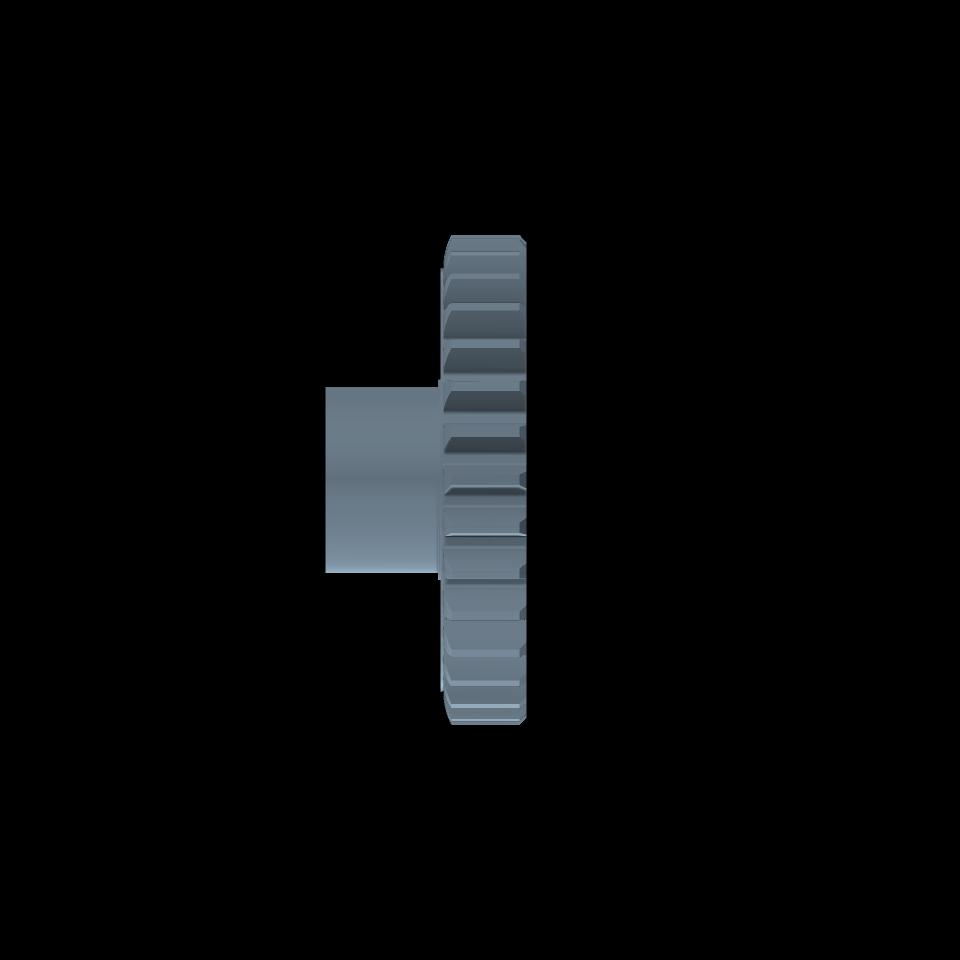Straight: (451, 235, 520, 723)
